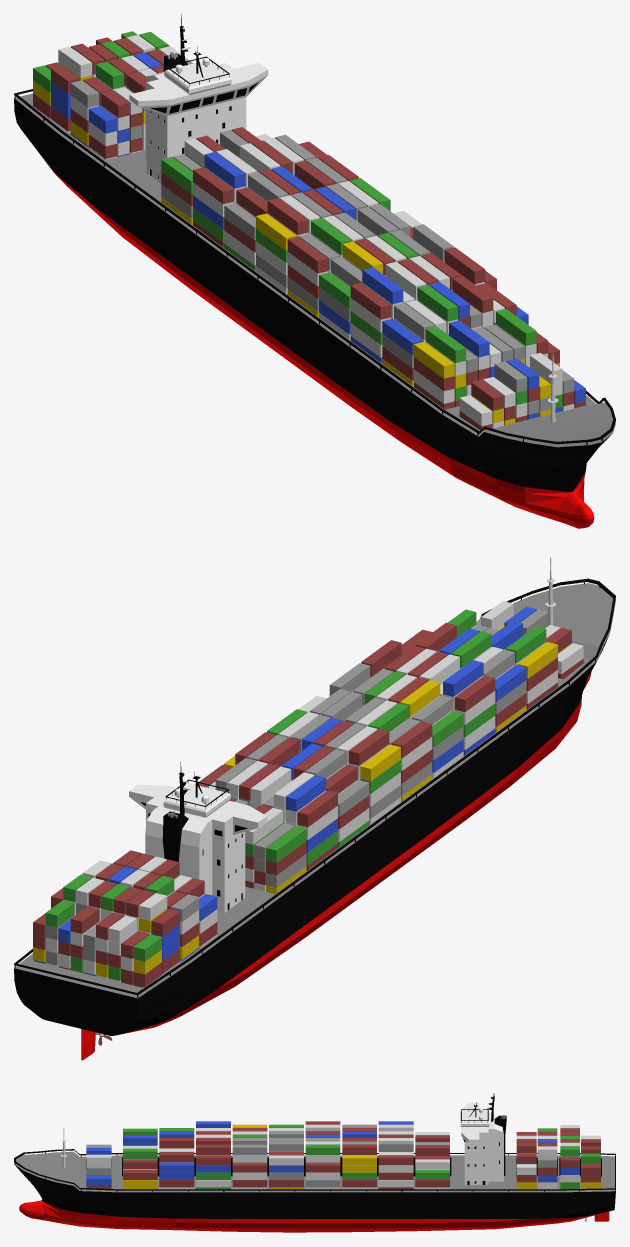
Rendered from GenericContainerShip.glb.
3 views of the same model, one above another, from view 1: azimuth 30°, elevation 25°; view 2: azimuth 150°, elevation 25°; view 3: azimuth 270°, elevation 25° (orthographic). The views are drawn at different scales.
Parts seen in each view (by area): view 1: Cube.004, Gear, Cube.011; view 2: Cube.004, Gear, Cube.011; view 3: Gear, Cube.004, Cube.011.
Boxes of the visible parts, x1,y1,x2,y2 form: Cube.004: [33, 31, 585, 430]; Gear: [14, 89, 615, 528]; Cube.011: [129, 14, 268, 183]; Cube.004: [33, 601, 583, 987]; Gear: [14, 557, 615, 1060]; Cube.011: [129, 761, 267, 912]; Gear: [14, 1128, 615, 1232]; Cube.004: [86, 1121, 600, 1189]; Cube.011: [460, 1093, 506, 1184].
Bounding box in the file's own units: 10.86 × 18.19 × 74.72.
